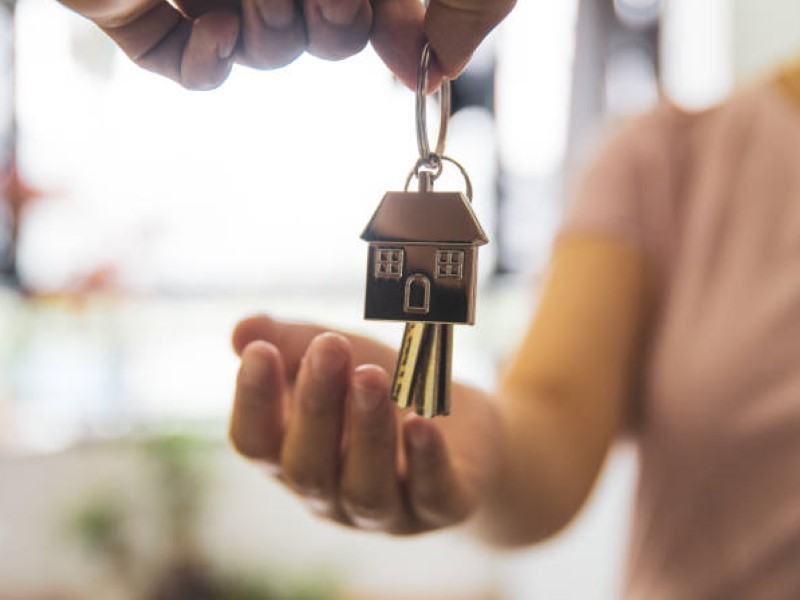key: (365, 179, 489, 415)
